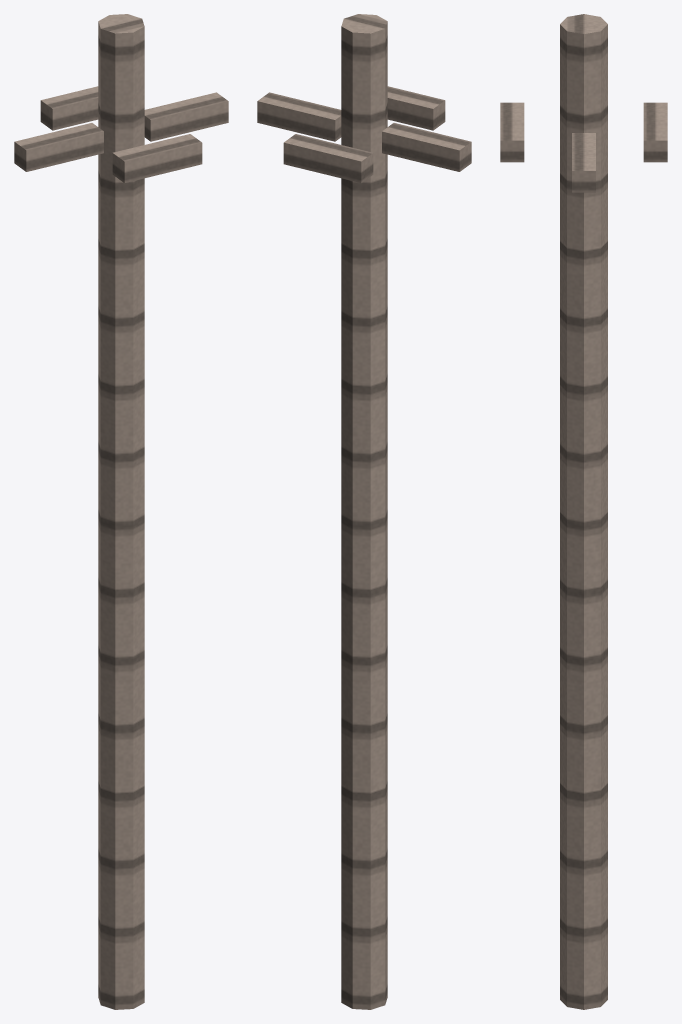
The model's file is coat_rack_hall_tree.glb.
The picture shows the model from 3 angles, left to right: view 1: azimuth 30°, elevation 25°; view 2: azimuth 150°, elevation 25°; view 3: azimuth 270°, elevation 25°; orthographic projection.
Parts seen in each view (by area): view 1: coat_rack_hall_tree-col; view 2: coat_rack_hall_tree-col; view 3: coat_rack_hall_tree-col.
Part boxes in pixels (x1=…): coat_rack_hall_tree-col: x1=14, y1=14, x2=228, y2=1009; coat_rack_hall_tree-col: x1=257, y1=14, x2=471, y2=1009; coat_rack_hall_tree-col: x1=500, y1=14, x2=667, y2=1009.
Size of the model in its own units: 0.39 by 1.8 by 0.28.
Materials: 1 (1 with a texture image).
